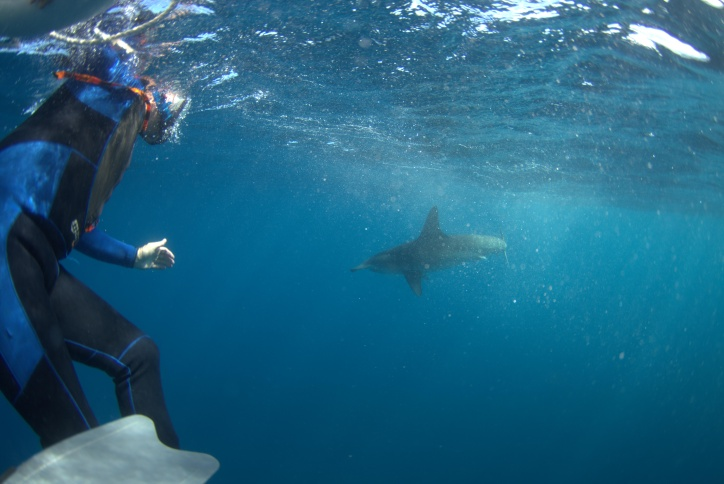Hammer: (319, 187, 521, 306)
